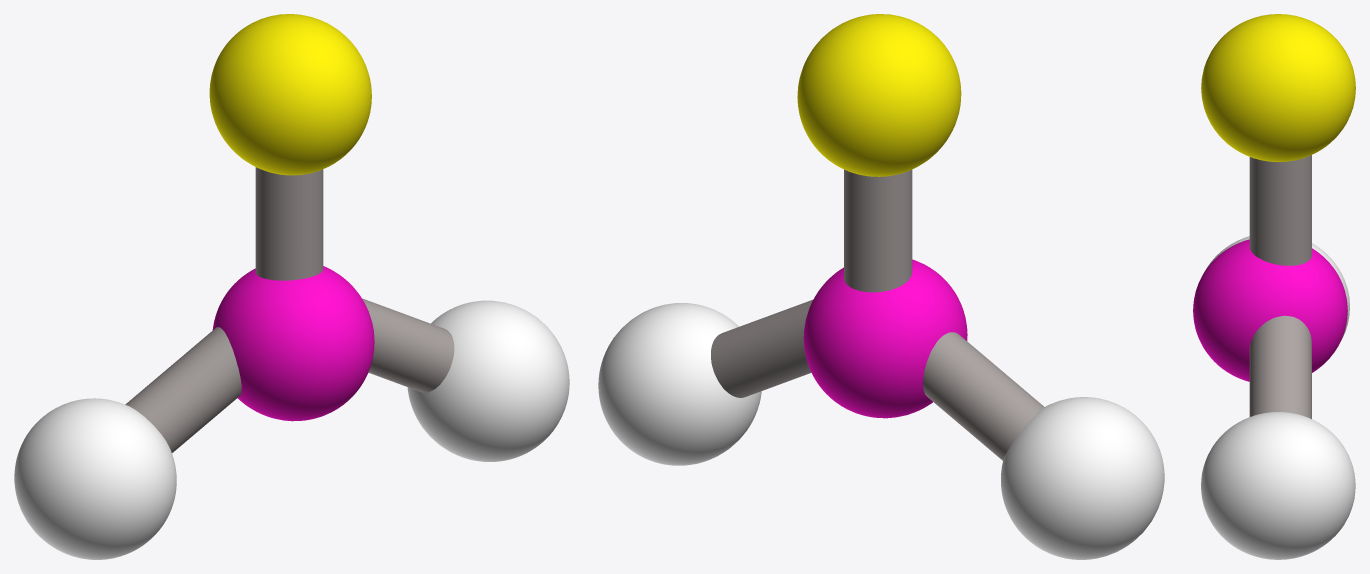
Rendered from angularbent1bond.fbx.
3 renders of one model, left to right at view 1: azimuth 30°, elevation 25°; view 2: azimuth 150°, elevation 25°; view 3: azimuth 270°, elevation 25°, orthographic. The views are drawn at different scales.
Visible parts, largest first — view 1: root (×7); view 2: root (×7); view 3: root (×6).
Boxes of the visible parts, box(x1,y1,x2,y2) form: root (×7): box(14, 14, 569, 559); root (×7): box(598, 14, 1164, 559); root (×6): box(1193, 14, 1355, 559).
Bounding box in the file's own units: 0.5904 × 0.5065 × 0.1688.
Materials: 6 (6 with a texture image).
